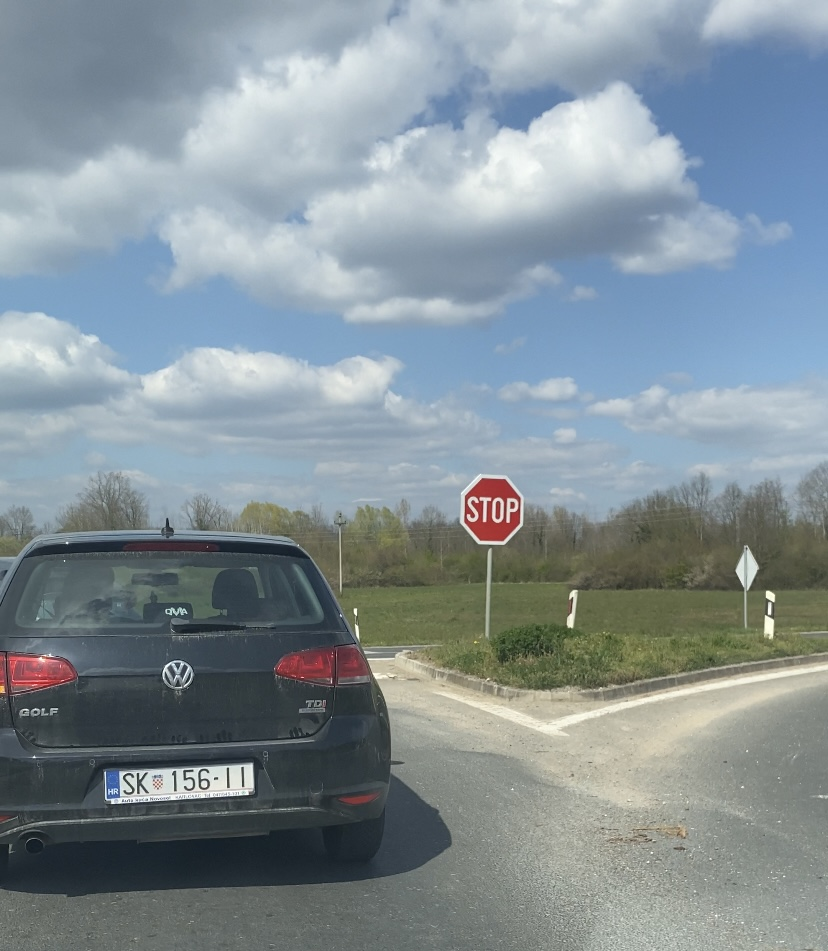Obavezno zaustavljanje: (460, 474, 524, 544)
